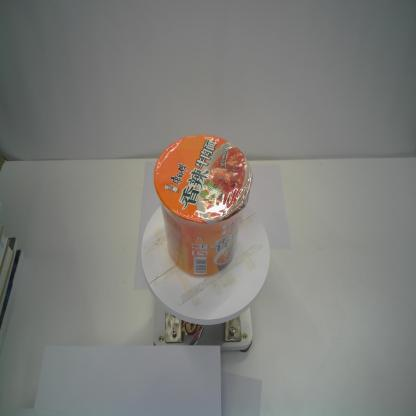Instant Noodles: (152, 132, 252, 280)
